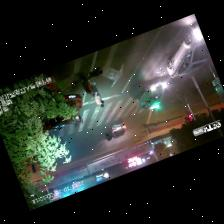person: (77, 73, 93, 95), (92, 82, 103, 106), (87, 67, 101, 77)
